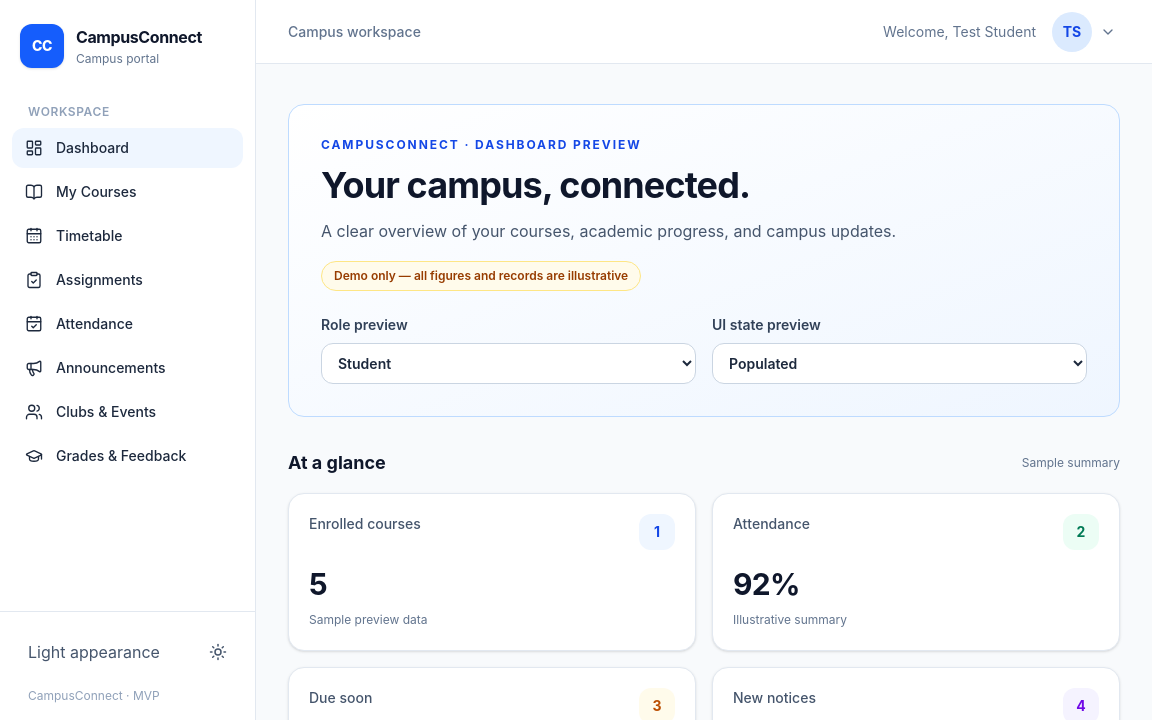
Test: CampusConnect application › navigates to the timetable page
The width and height of the screenshot is (1152, 720).
What coordinates should you click on to do the following:
click the link "Timetable"
I would click on:
 (74, 236)
Its box is x1=25 y1=227 x2=122 y2=245.
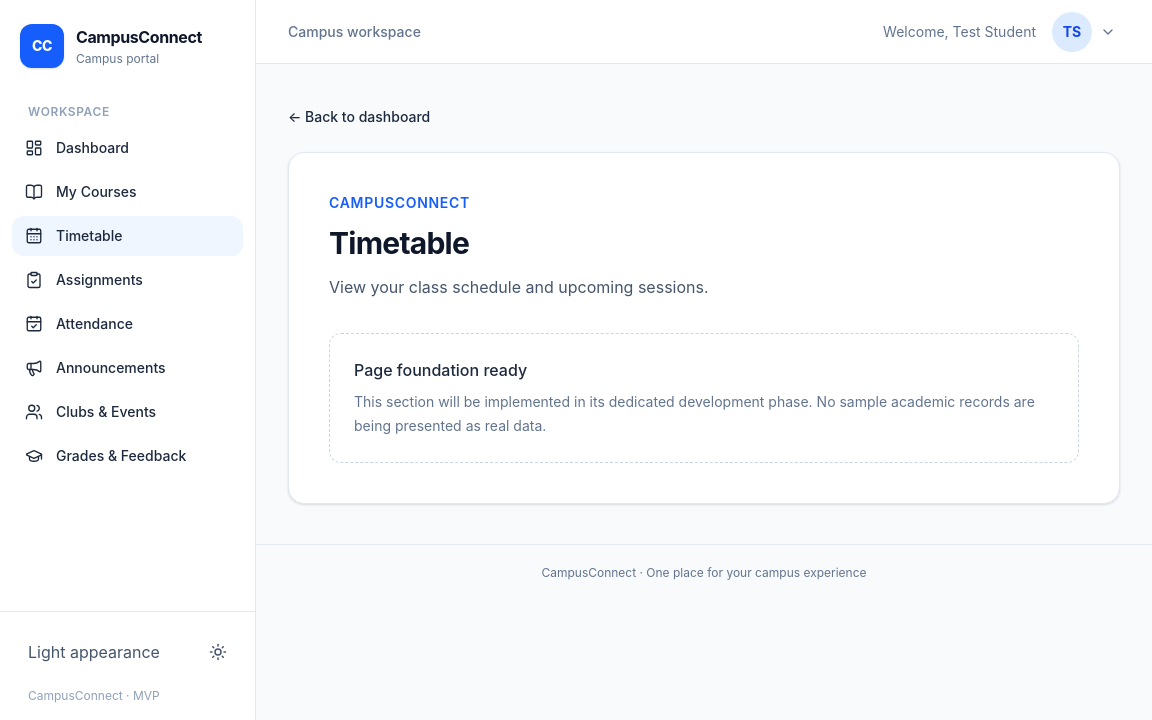
Now the heading "Timetable" is shown, box x1=329 y1=225 x2=469 y2=261
